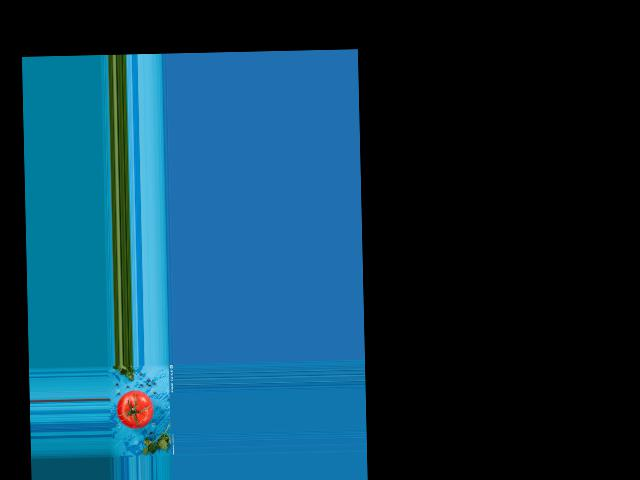tomato: (116, 390, 154, 429)
